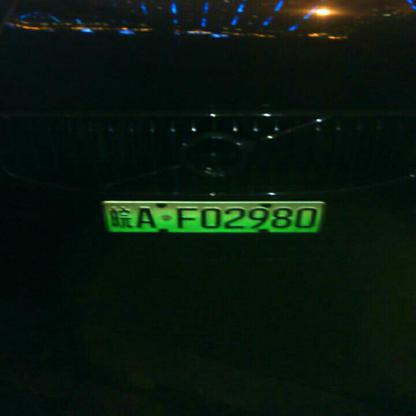lp: (104, 202, 322, 232)
